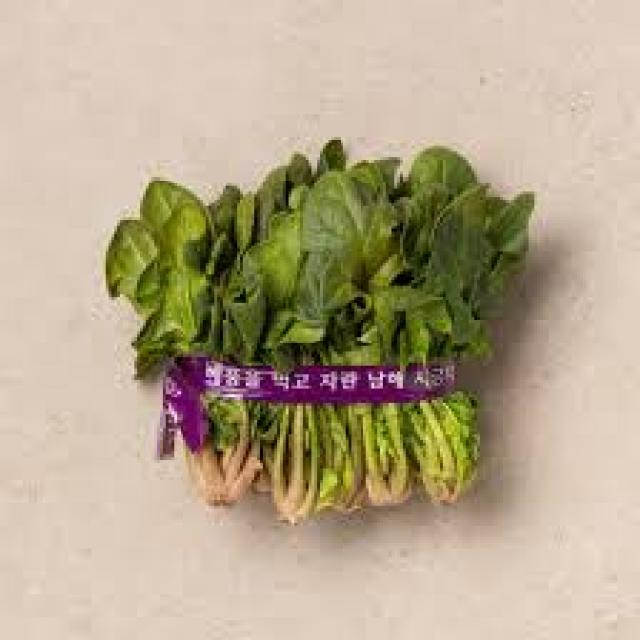Spinach bagged/loose: (101, 138, 535, 525)
